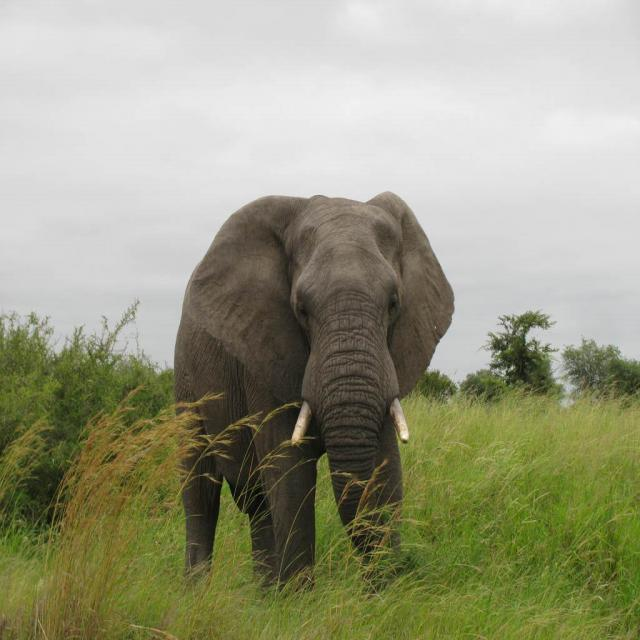elephant: (168, 198, 453, 606)
